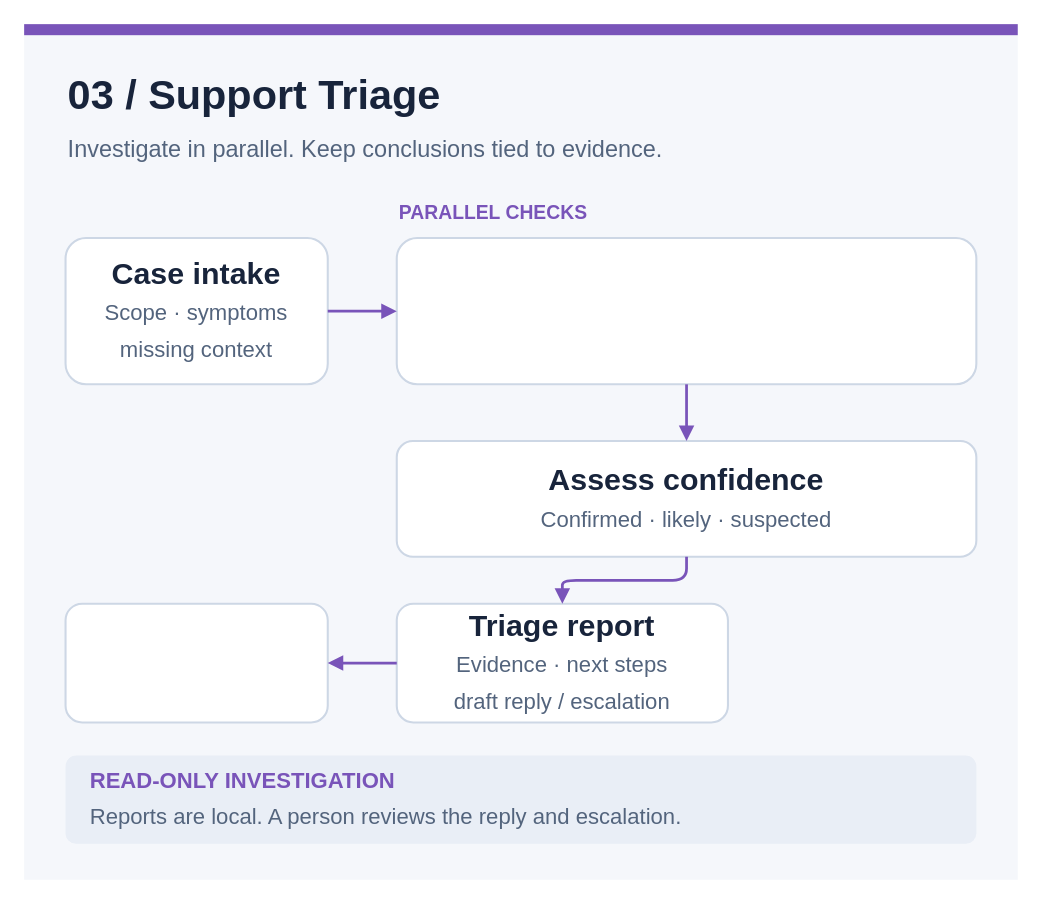
Image size: 1041x903. Some labels were removed from this diagram. Here are the shapes that lost their labels. From the top down, the box of each, then its label:
(395, 236, 977, 385): Evidence checks Docs · known issues logs · source · case data
(64, 602, 328, 723): Human review Verify, then act
